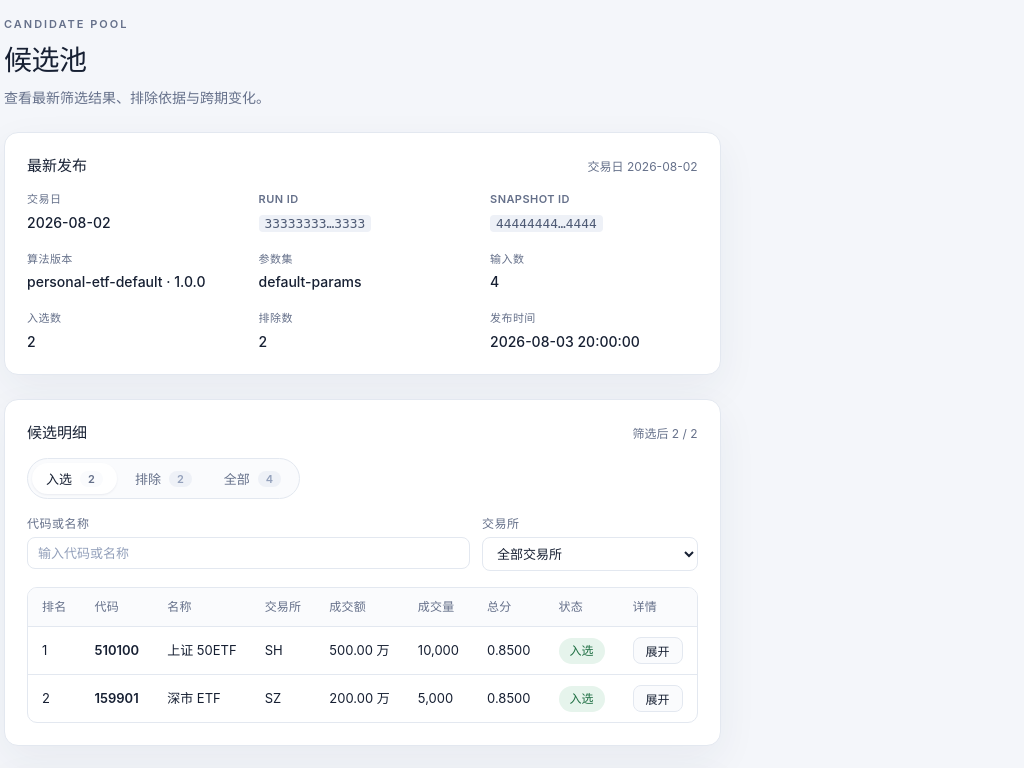
CandidatePoolPage › tabs › switches to the all tab and renders both groups
This screenshot has width=1024, height=768.
Click the tab "全部 4": (252, 479) left=210, top=463, right=295, bottom=494
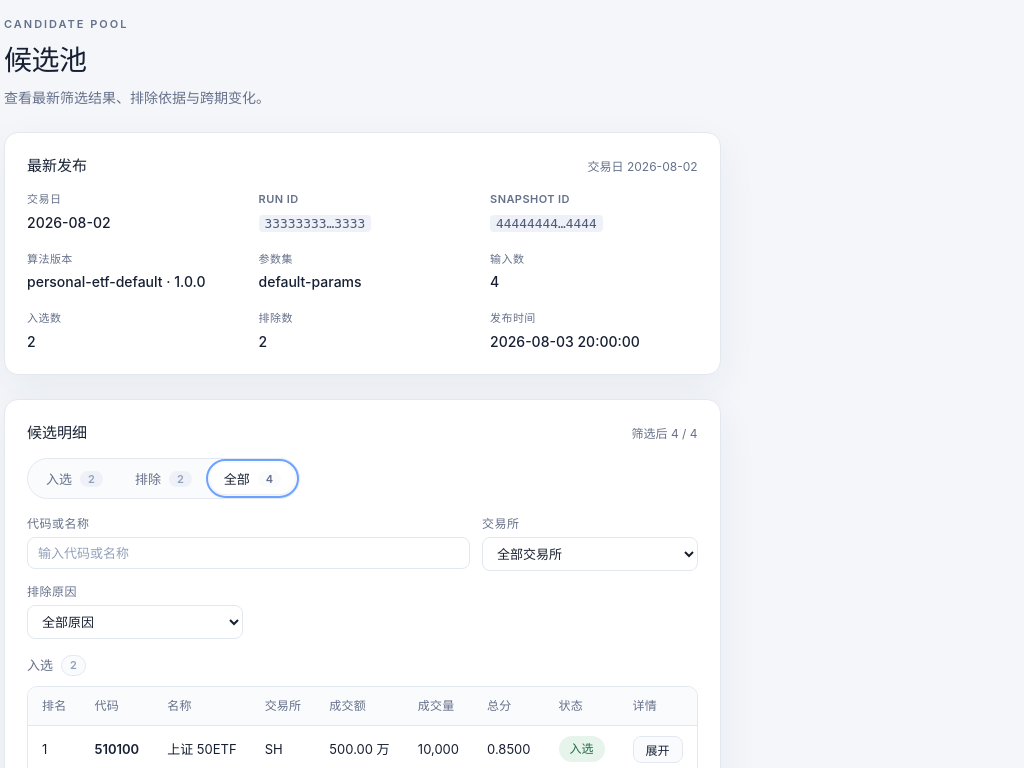
Check: the text "筛选后 4 / 4" is shown, box left=632, top=425, right=698, bottom=443
